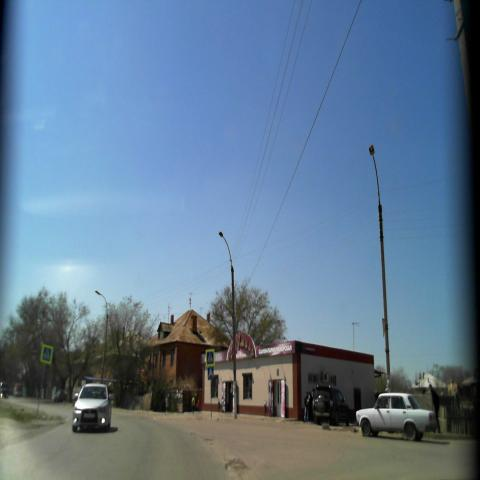5_19_1: (39, 343, 53, 365), (205, 348, 215, 366)
5_20: (206, 366, 214, 381)
